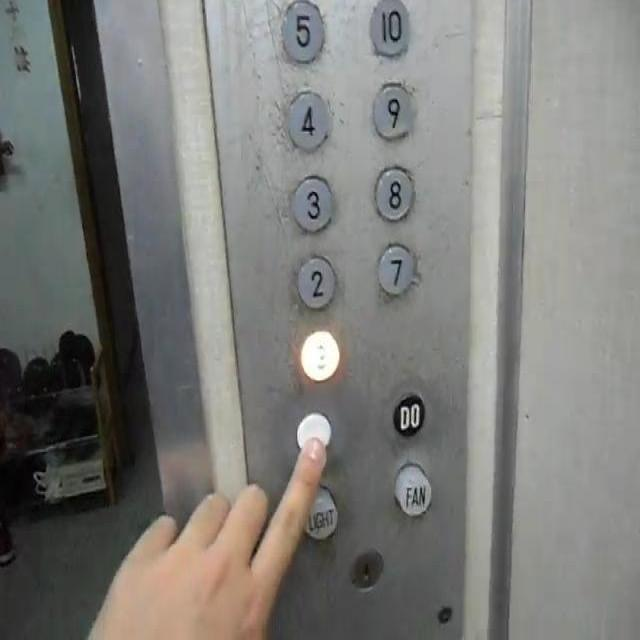10: (368, 0, 410, 52)
2: (297, 255, 334, 308)
3: (292, 174, 331, 230)
4: (285, 90, 328, 150)
5: (279, 0, 324, 61)
7: (377, 243, 412, 293)
8: (374, 163, 413, 220)
9: (371, 79, 412, 140)
DO: (391, 389, 424, 436)
blur: (298, 328, 339, 380)
empty: (295, 410, 331, 454)
text_FAN: (393, 463, 432, 517)
text_light: (298, 488, 336, 537)
